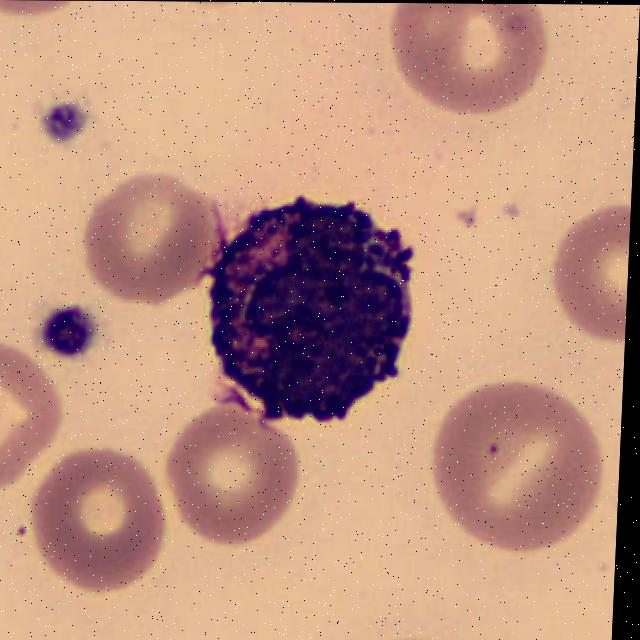basophil: (181, 194, 449, 442)
platelets: (36, 299, 102, 360), (38, 99, 95, 154)
rbc: (412, 374, 614, 570), (28, 442, 168, 607), (371, 3, 559, 122), (150, 429, 326, 546), (66, 183, 224, 302), (539, 197, 631, 366), (0, 336, 69, 523)
